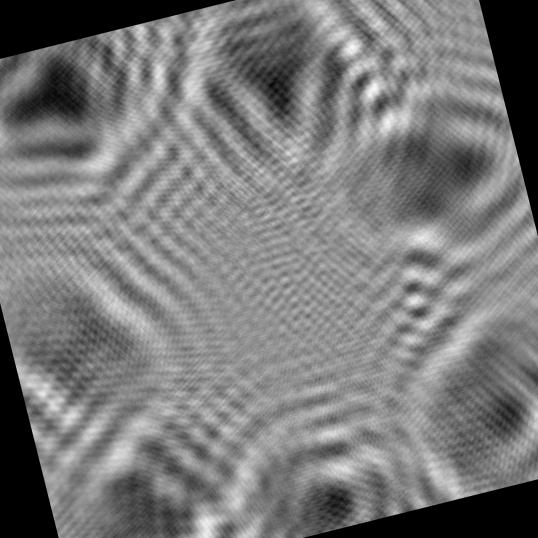A: (0, 17, 204, 221)
I: (0, 194, 219, 469)
J: (164, 338, 455, 538)
L: (329, 247, 538, 517)
T: (20, 326, 305, 538)
V: (126, 0, 438, 227)
Y: (261, 42, 538, 312)
